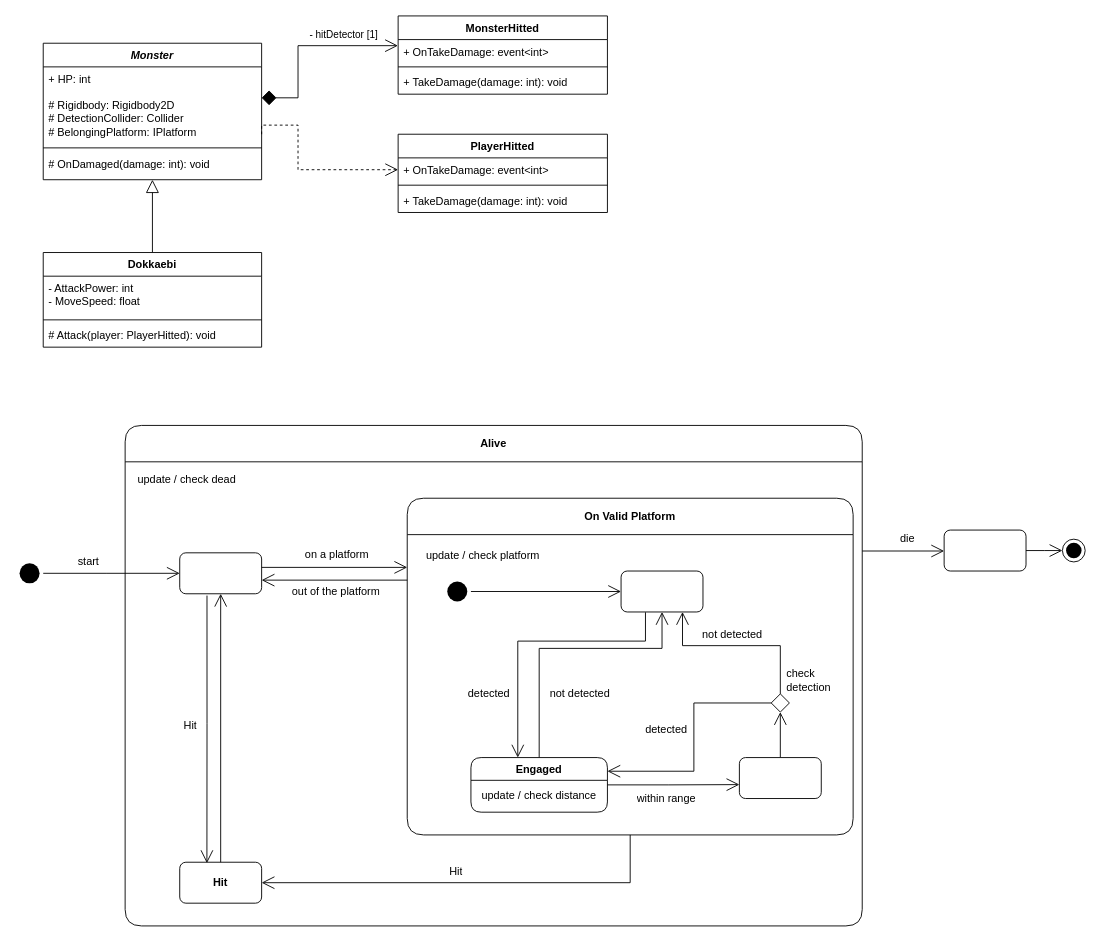
Some shapes in this 1101 by 942 pixel diagram are drawn without their labels. Here are the shapes that lost their labels. From the top down, the centre of each, then its label:
At point (984, 550): "Dead".
At point (220, 573): "Set Platform".
At point (661, 591): "Idle".
At point (779, 778): "Attack".
